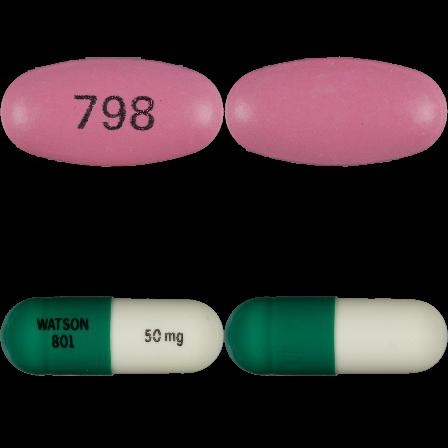64725-0798: (0, 0, 224, 224)
